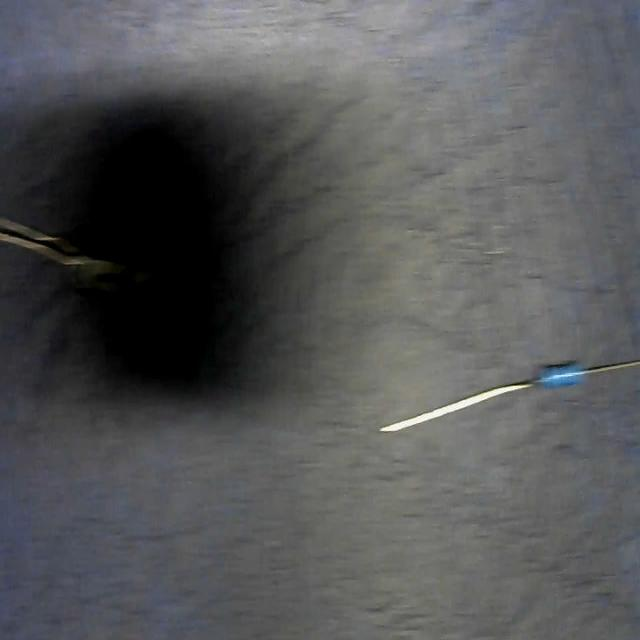resistor: (381, 356, 640, 435)
